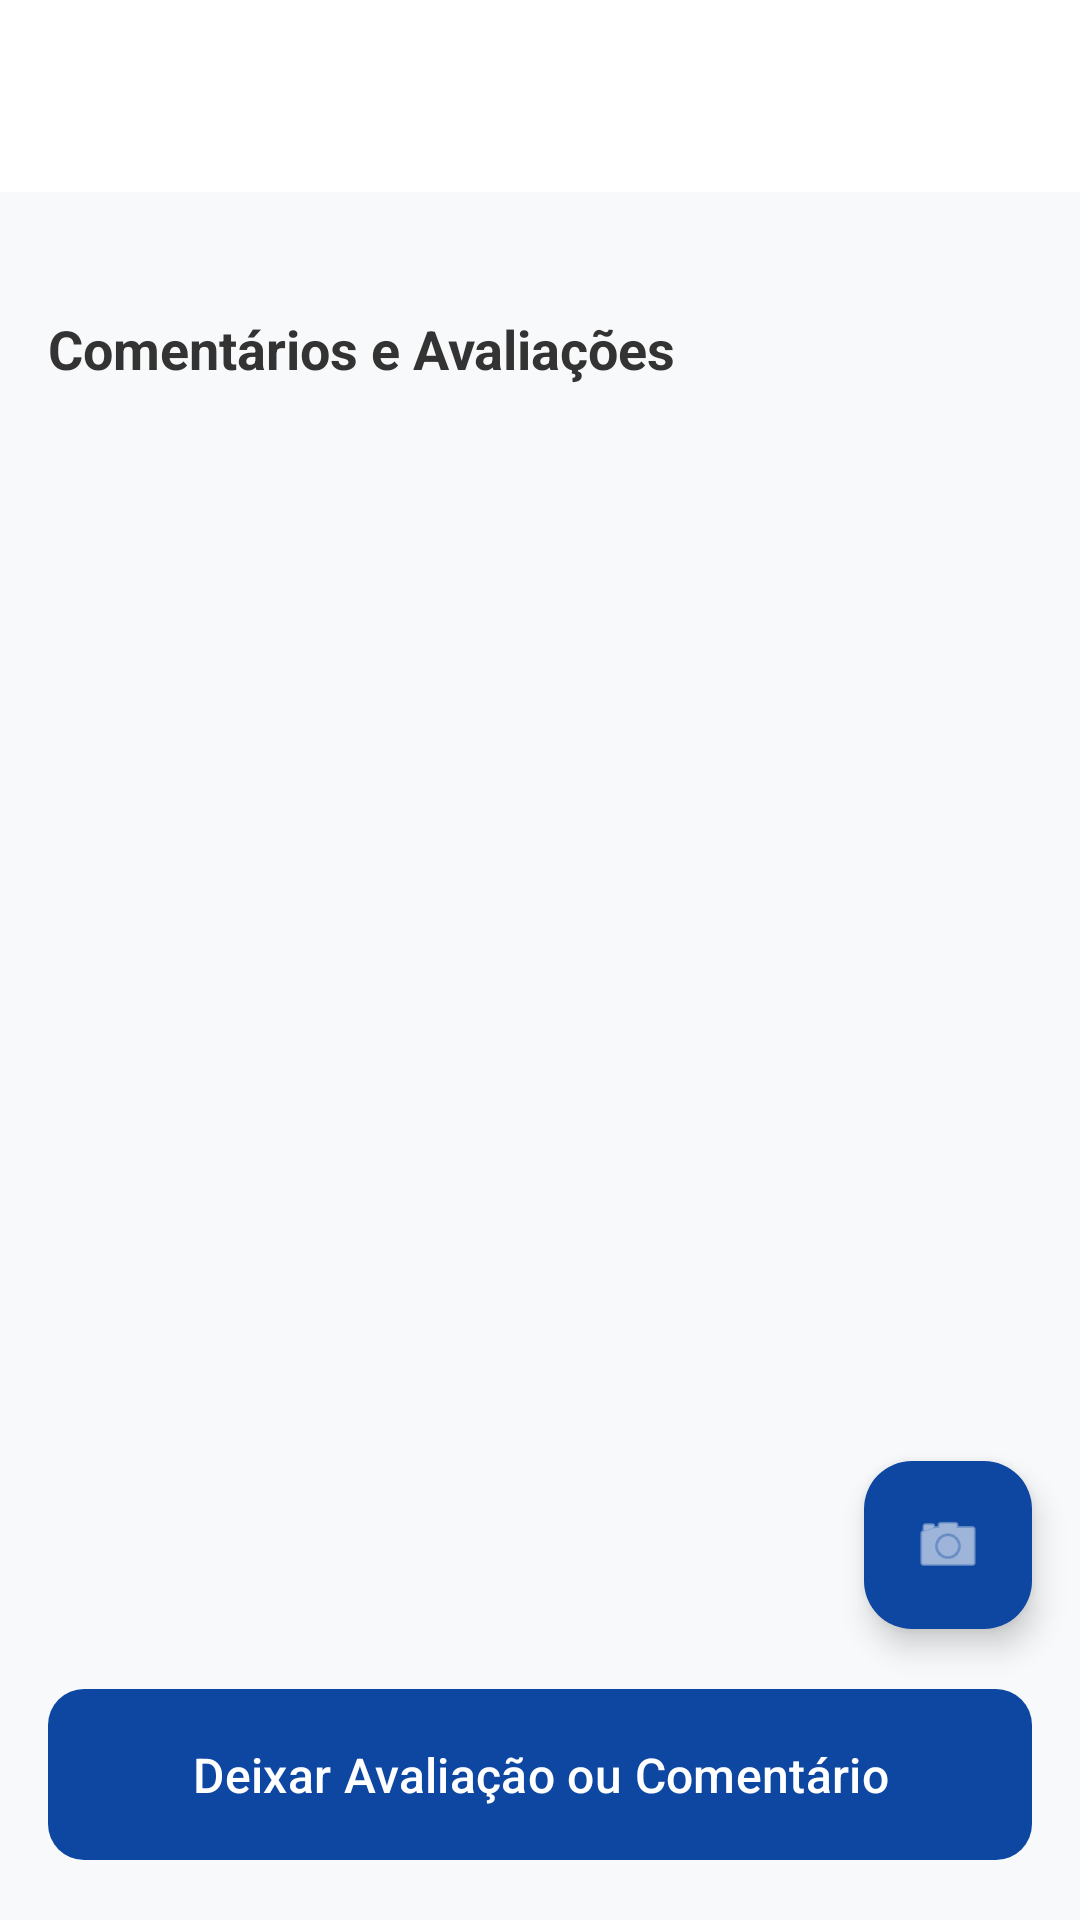

Where icons sit on this 1080px x 1920px app screen, as bbox=(x1, y1, x2, y2):
camera: bbox=(864, 1461, 1032, 1629)
